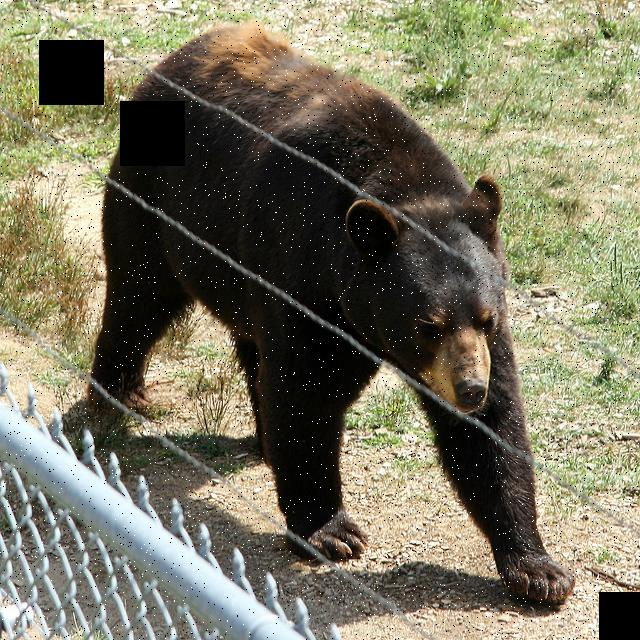Bear: (73, 14, 581, 614)
